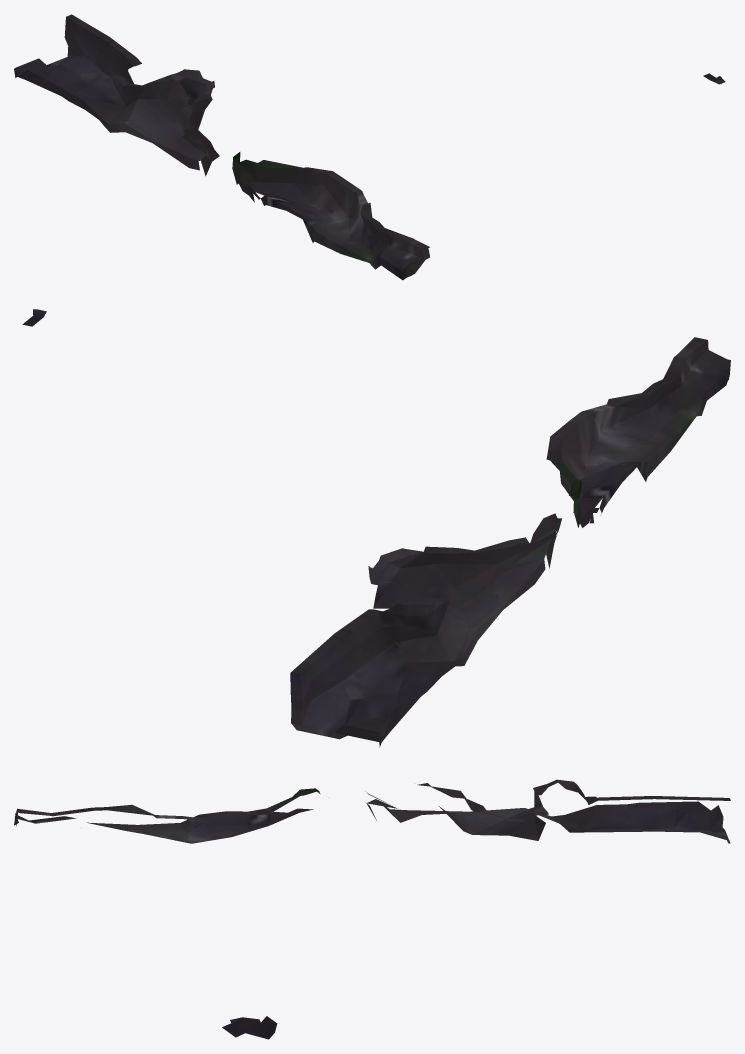
The picture shows the model from 3 angles, top to bottom: view 1: azimuth 30°, elevation 25°; view 2: azimuth 150°, elevation 25°; view 3: azimuth 270°, elevation 25°; orthographic projection. The views are drawn at different scales.
Visible parts, largest first — view 1: Mesh_0; view 2: Mesh_0; view 3: Mesh_0.
Boxes of the visible parts, bbox=[...] form: Mesh_0: bbox=[14, 14, 725, 280]; Mesh_0: bbox=[22, 309, 730, 747]; Mesh_0: bbox=[14, 779, 730, 1039].
Size of the model in its own units: 32.41 by 3.59 by 38.57.
Materials: 1 (1 with a texture image).
